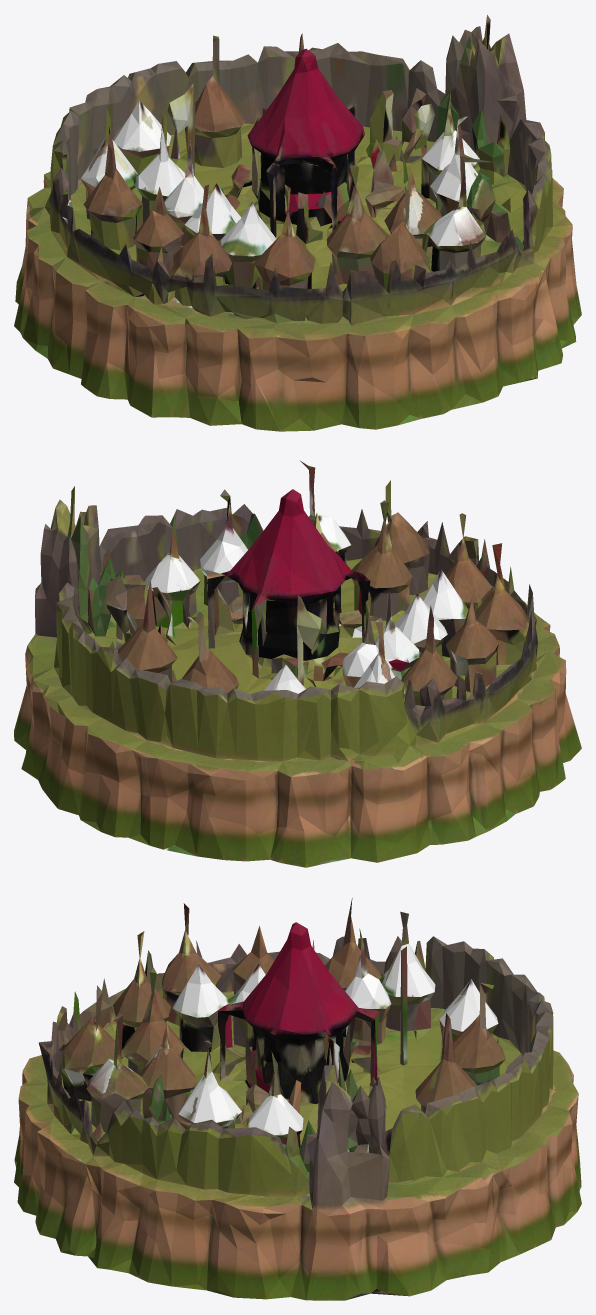
File: etiopia_centro.glb
3 renders of one model, top to bottom at view 1: azimuth 30°, elevation 25°; view 2: azimuth 150°, elevation 25°; view 3: azimuth 270°, elevation 25°, orthographic. The views are drawn at different scales.
Parts seen in each view (by area): view 1: geometry_0; view 2: geometry_0; view 3: geometry_0.
Part boxes in pixels (x1,y1,x2,y2): geometry_0: [14, 14, 581, 431]; geometry_0: [14, 460, 581, 867]; geometry_0: [14, 898, 581, 1300].
Bounding box in the file's own units: 3.38 × 1.74 × 3.4.
Materials: 1 (1 with a texture image).
